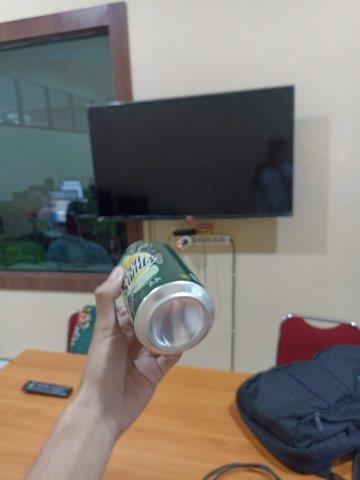kaleng: (119, 240, 215, 355)
